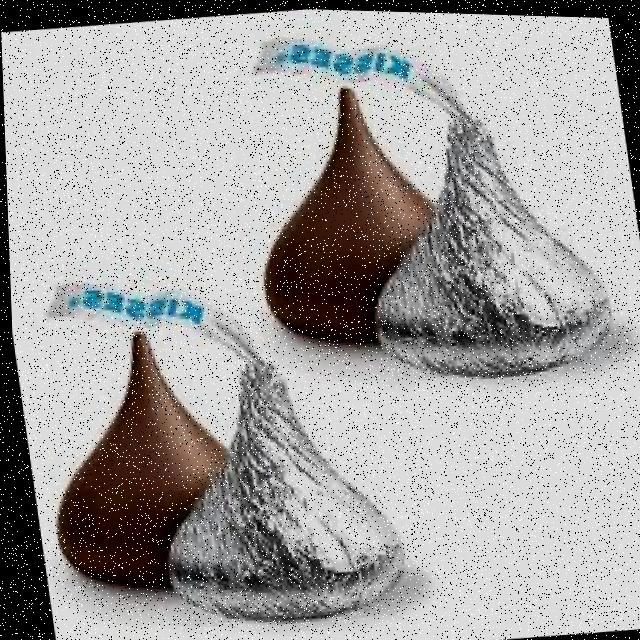kisses: (332, 70, 623, 400), (119, 319, 417, 640)
